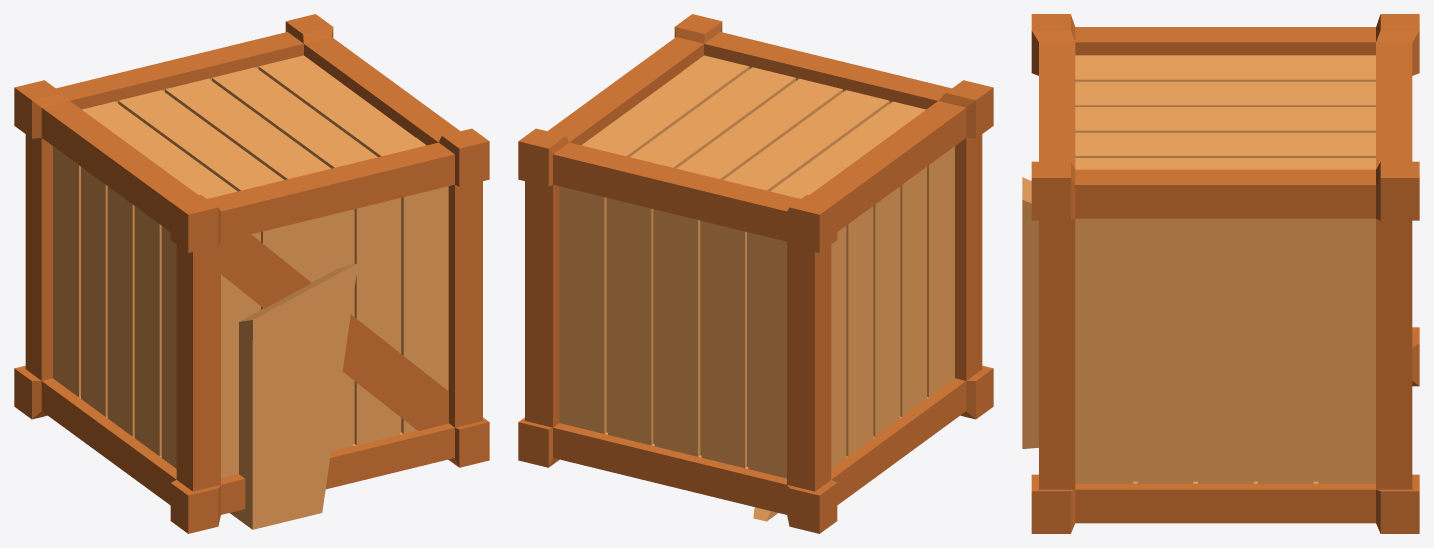
The model's file is kutu.fbx.
The picture shows the model from 3 angles, left to right: view 1: azimuth 30°, elevation 25°; view 2: azimuth 150°, elevation 25°; view 3: azimuth 270°, elevation 25°; orthographic projection. The views are drawn at different scales.
Visible parts, largest first — view 1: Cube.001, Cube.001_cell.002, Cube.001_cell.009, Cube.001_cell, Cube.001_cell.006, Cube.001_cell.004, Cube.001_cell.005, Cube.001_cell.003, Cube.001_cell.008, Cube.001_cell.007; view 2: Cube.001, Cube.001_cell.002, Cube.001_cell, Cube.001_cell.008, Cube.001_cell.006, Cube.001_cell.005, Cube.001_cell.001, Cube.001_cell.003; view 3: Cube.001, Cube.001_cell.001, Cube.001_cell, Cube.001_cell.002, Cube.001_cell.004, Cube.001_cell.009, Cube.001_cell.005, Cube.001_cell.008.
Boxes of the visible parts, bbox=[...] form: Cube.001: bbox=[14, 14, 489, 533]; Cube.001_cell.002: bbox=[83, 131, 433, 349]; Cube.001_cell.009: bbox=[230, 263, 357, 529]; Cube.001_cell: bbox=[125, 14, 425, 142]; Cube.001_cell.006: bbox=[30, 322, 244, 533]; Cube.001_cell.004: bbox=[398, 135, 482, 467]; Cube.001_cell.005: bbox=[41, 93, 144, 388]; Cube.001_cell.003: bbox=[14, 84, 53, 407]; Cube.001_cell.008: bbox=[86, 97, 169, 134]; Cube.001_cell.007: bbox=[326, 298, 406, 488]; Cube.001: bbox=[518, 14, 993, 533]; Cube.001_cell.002: bbox=[693, 37, 993, 372]; Cube.001_cell: bbox=[518, 55, 785, 496]; Cube.001_cell.008: bbox=[716, 162, 805, 512]; Cube.001_cell.006: bbox=[831, 238, 992, 522]; Cube.001_cell.005: bbox=[778, 173, 859, 513]; Cube.001_cell.001: bbox=[525, 45, 692, 487]; Cube.001_cell.003: bbox=[801, 200, 841, 533]; Cube.001: bbox=[1031, 18, 1419, 533]; Cube.001_cell.001: bbox=[1089, 169, 1419, 533]; Cube.001_cell: bbox=[1112, 80, 1419, 382]; Cube.001_cell.002: bbox=[1031, 14, 1286, 169]; Cube.001_cell.004: bbox=[1031, 161, 1092, 533]; Cube.001_cell.009: bbox=[1022, 177, 1038, 448]; Cube.001_cell.005: bbox=[1287, 30, 1419, 386]; Cube.001_cell.008: bbox=[1273, 64, 1375, 92].
Size of the model in its own units: 208 by 215 by 213.
